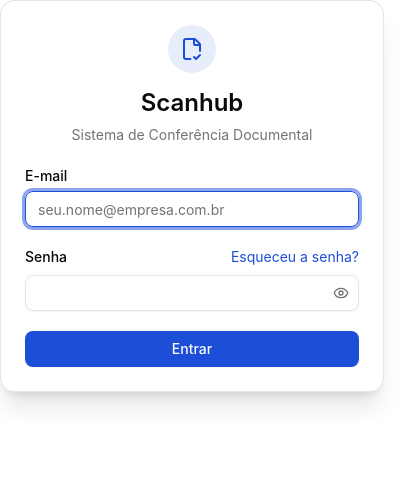
Test: LoginPage › valida os campos antes de enviar
The image size is (401, 482).
Type "invalido" into the field labelled "E-mail". click: point(192, 209)
box: [25,191,359,227]
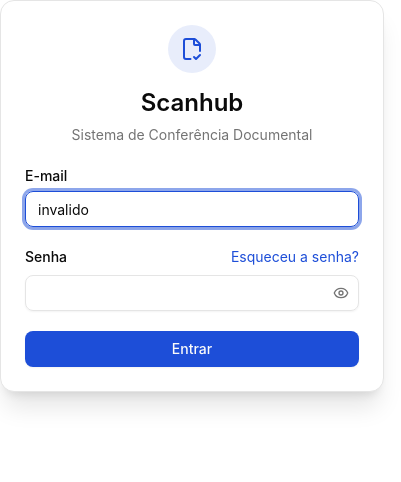
Click the button "Entrar". click: point(192, 349)
box: [25,331,359,367]
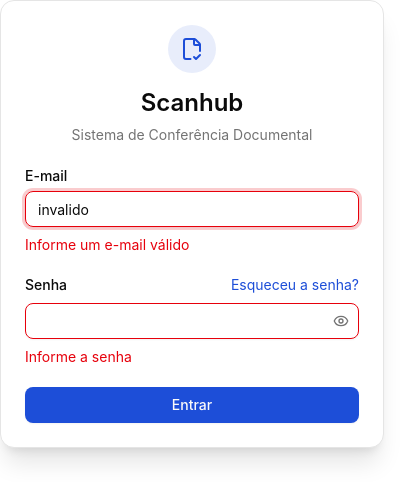
Result: the text "Informe um e-mail válido" is shown at [25,236,189,253]
Result: the text "Informe a senha" is shown at [25,348,132,365]
